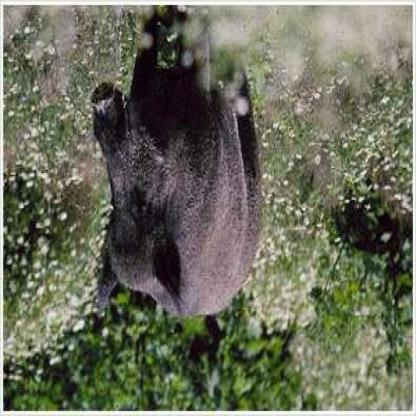boar: (51, 1, 267, 346)
